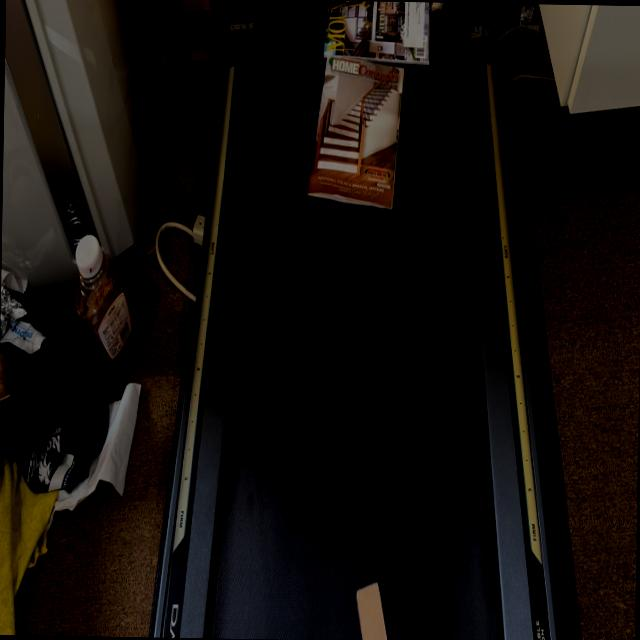Recycle: (318, 9, 436, 203), (168, 152, 256, 296)
